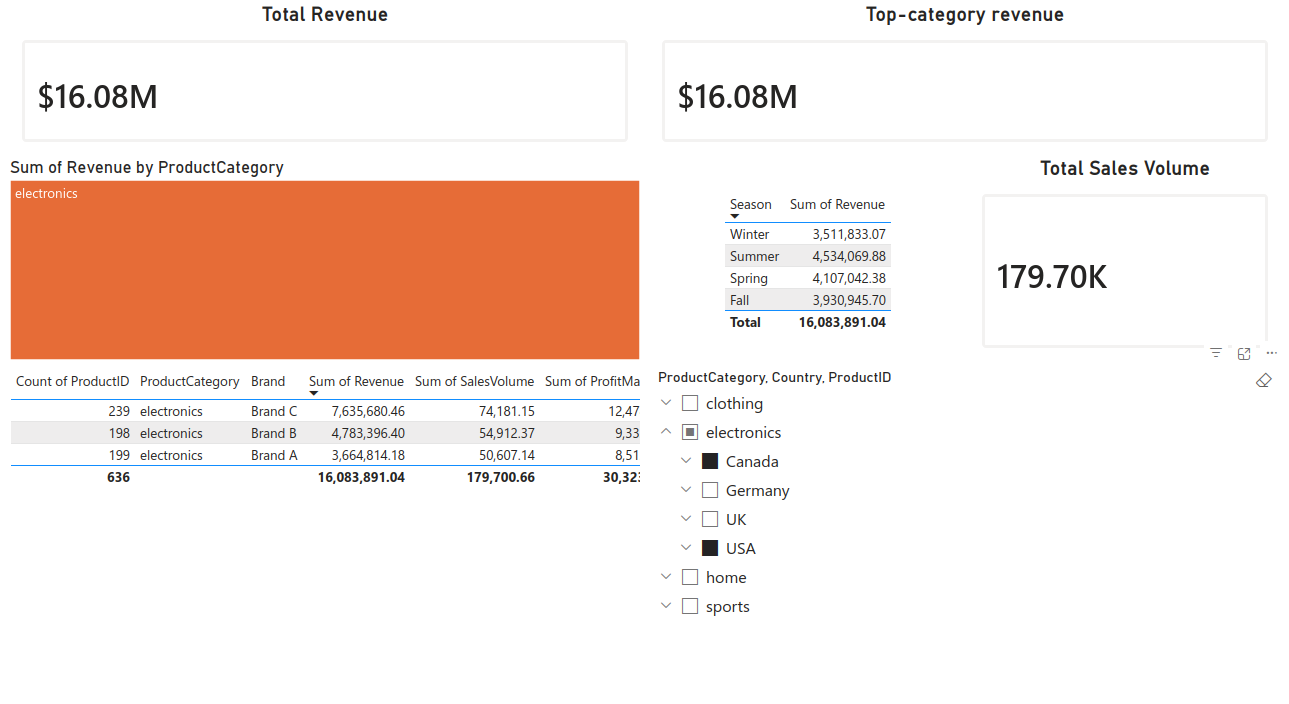

What the dashboard file says about the page in this screenshot:
{"tool":"powerbi","page":{"name":"Page 1","canvas":[1280,720],"ordinal":0},"visuals":[{"type":"cardVisual","title":"Total Revenue","fields":{"Data":["Sum(ecommerce_dataset.Revenue)"]},"box":[0,0,640.5,154],"z":0},{"type":"cardVisual","title":"Top-category revenue","fields":{"Data":["Sum(ecommerce_dataset.Revenue)"]},"box":[640.5,0,639.5,154],"z":1000},{"type":"tableEx","fields":{"Values":["CountNonNull(ecommerce_dataset.ProductID)","ecommerce_dataset.ProductCategory","ecommerce_dataset.Brand","Sum(ecommerce_dataset.Revenue)","Sum(ecommerce_dataset.SalesVolume)","Sum(ecommerce_dataset.ProfitMargin)"]},"box":[0,360.2,640.5,359.2],"z":2000},{"type":"slicer","fields":{"Values":["ecommerce_dataset.ProductCategory","ecommerce_dataset.Country","ecommerce_dataset.ProductID"]},"box":[640.5,360.2,639.5,359.2],"z":3000},{"type":"tableEx","fields":{"Values":["ecommerce_dataset.Season","Sum(ecommerce_dataset.Revenue)"]},"box":[713.5,182.6,184.5,149],"z":3001},{"type":"treemap","fields":{"Group":["ecommerce_dataset.ProductCategory"],"Values":["Sum(ecommerce_dataset.Revenue)"]},"box":[0,154,640.5,206.3],"z":3002},{"type":"cardVisual","title":"Total Sales Volume","fields":{"Data":["Sum(ecommerce_dataset.SalesVolume)"]},"box":[960.2,154,319.8,206.3],"z":3003}]}

Visuals, with their boxes in screenshot pixels (x1, y1, x2, y2), scaled from the page's 1280x720 canvas onto the 1289x704 screenshot:
"Total Revenue" cardVisual: select_region(0, 0, 645, 151)
"Top-category revenue" cardVisual: select_region(645, 0, 1288, 151)
tableEx - CountNonNull(ecommerce_dataset.ProductID) x ecommerce_dataset.ProductCategory: select_region(0, 352, 645, 703)
slicer - ecommerce_dataset.ProductCategory x ecommerce_dataset.Country: select_region(645, 352, 1288, 703)
tableEx - ecommerce_dataset.Season x Sum(ecommerce_dataset.Revenue): select_region(719, 179, 904, 324)
treemap - ecommerce_dataset.ProductCategory x Sum(ecommerce_dataset.Revenue): select_region(0, 151, 645, 352)
"Total Sales Volume" cardVisual: select_region(967, 151, 1288, 352)
